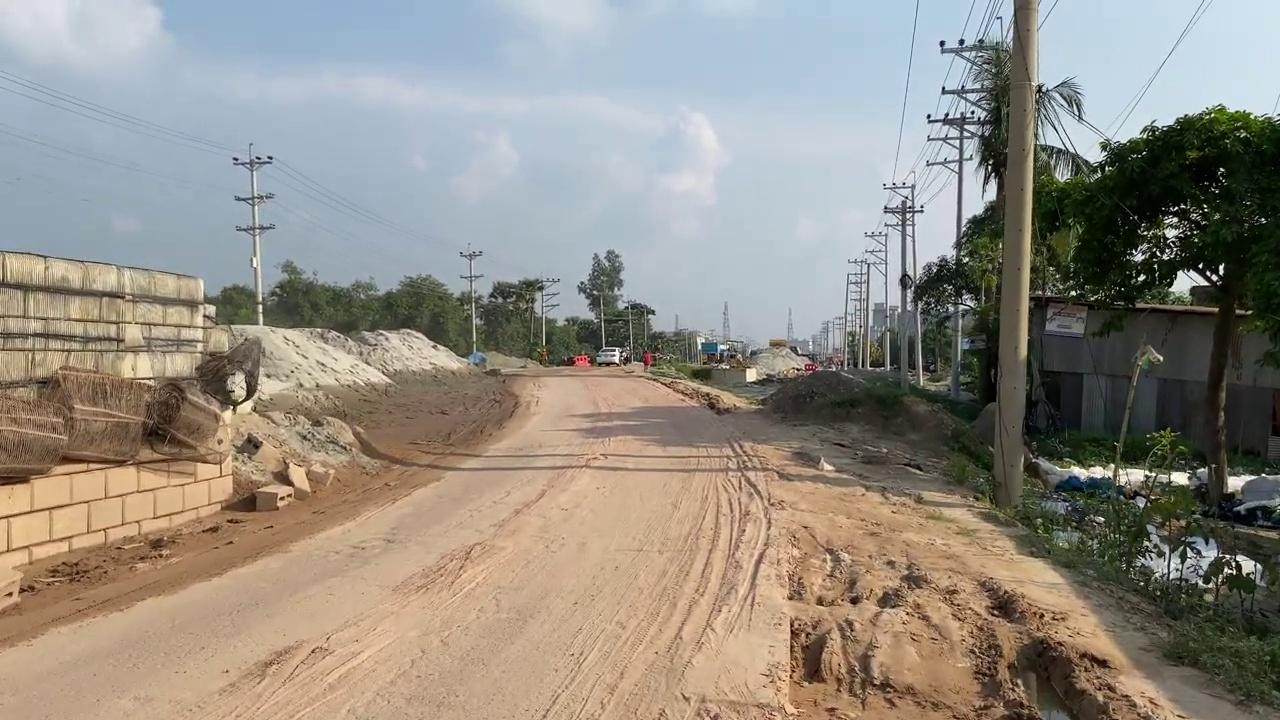Car: (595, 346, 628, 366)
Muddy road: (1, 467, 1271, 718)
Pole: (990, 0, 1039, 511)
Traffic-sign: (1033, 102, 1279, 509), (576, 247, 624, 350)
Tree: (698, 338, 746, 367), (722, 339, 746, 365)
